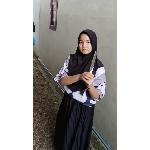Pisau: (86, 48, 102, 82)
